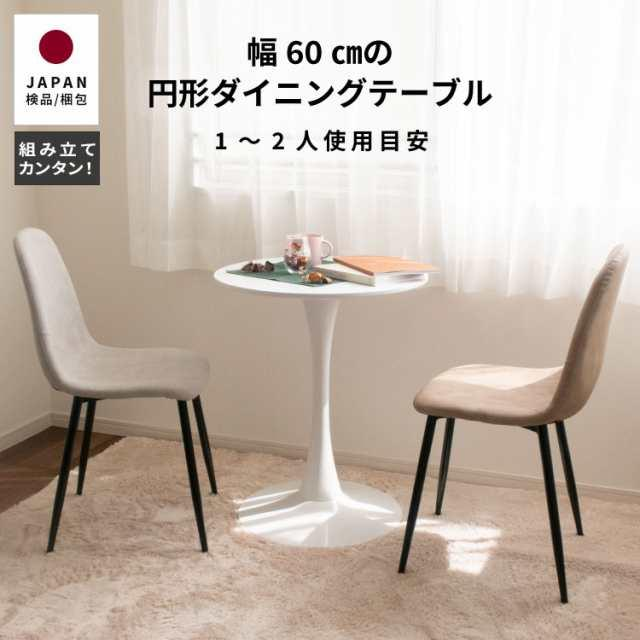white chair: (391, 251, 630, 598), (13, 232, 222, 552)
white desk: (204, 246, 453, 559)
